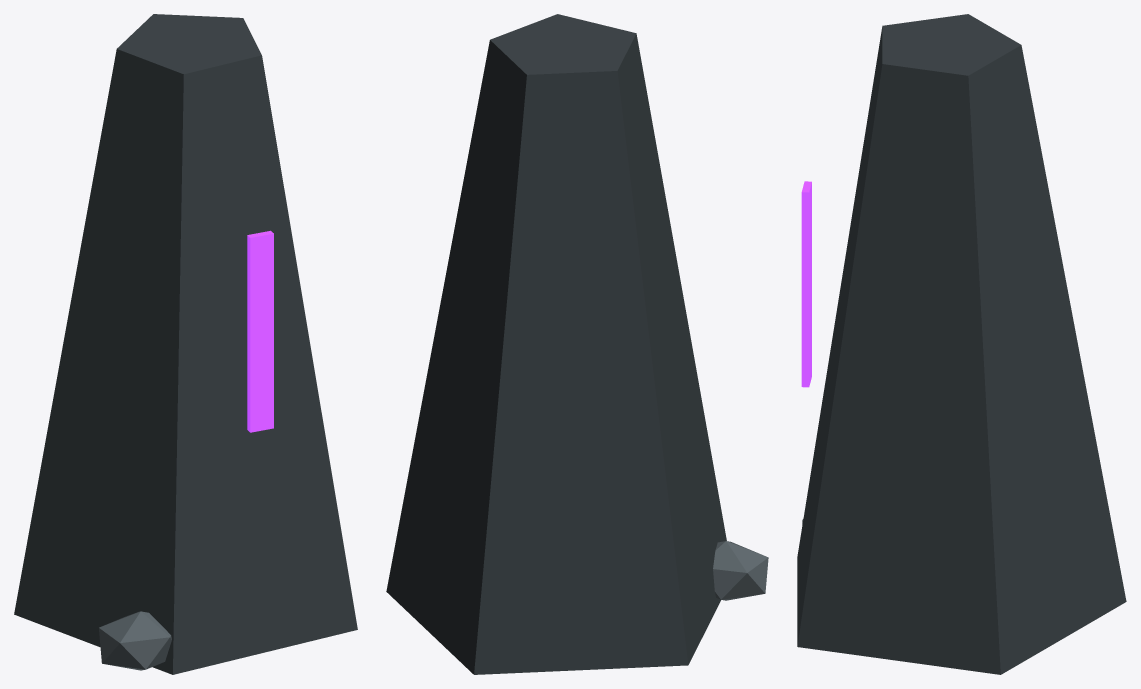
File: standing_stone_b.glb
3 views of the same model, side by side, from view 1: azimuth 30°, elevation 25°; view 2: azimuth 150°, elevation 25°; view 3: azimuth 270°, elevation 25° (orthographic).
Visible parts, largest first — view 1: Monolith.001, Rune.001, Foot_Rock_3.001; view 2: Monolith.001, Foot_Rock_3.001; view 3: Monolith.001, Rune.001.
Boxes of the visible parts, x1,y1,x2,y2 form: Monolith.001: (14,14,357,674); Rune.001: (247,230,273,432); Foot_Rock_3.001: (99,611,171,670); Monolith.001: (386,14,726,674); Foot_Rock_3.001: (713,541,768,600); Monolith.001: (797,14,1126,674); Rune.001: (801,181,811,387).
Bounding box in the file's own units: 1.61 × 2.89 × 1.53.
